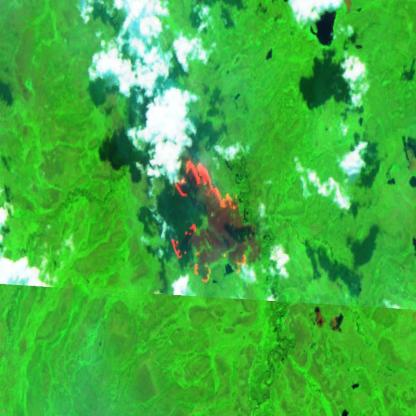fire: (166, 155, 254, 289)
